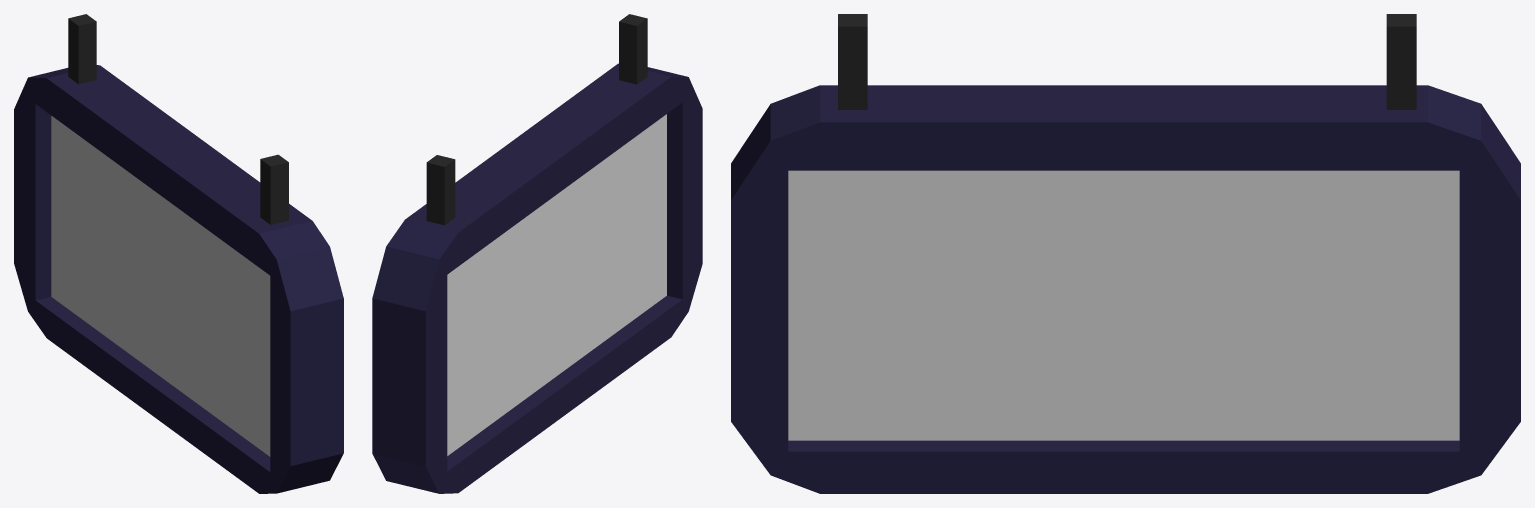
The model's file is вывеска.fbx.
3 renders of one model, left to right at view 1: azimuth 30°, elevation 25°; view 2: azimuth 150°, elevation 25°; view 3: azimuth 270°, elevation 25°, orthographic. The views are drawn at different scales.
Visible parts, largest first — view 1: Вывеска; view 2: Вывеска; view 3: Вывеска.
Part boxes in pixels (<box>): Вывеска: <box>14,14,343,493</box>; Вывеска: <box>372,14,702,493</box>; Вывеска: <box>731,14,1520,493</box>.
Bounding box in the file's own units: 0.4288 × 2.45 × 3.85.
